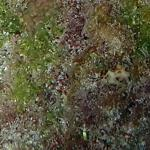dead: (5, 4, 146, 143)
